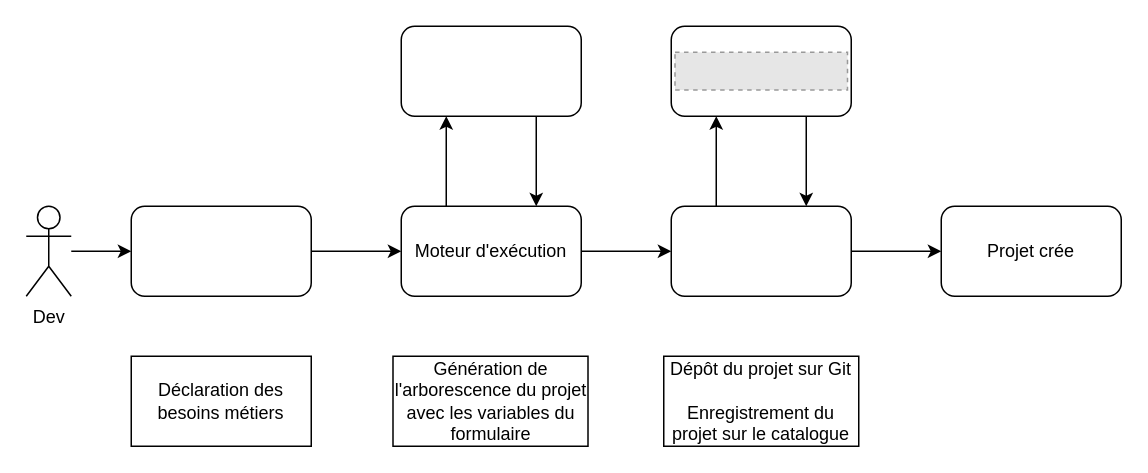
The diagram is 1148 pixels wide and 473 high, and some of its shapes have lost their labels. Grey dashed boxes stand in for pictures. Here are the shapes that lost their labels. From the top down, the box of each, then its label:
(400, 25, 581, 116): Templates (Squelette de code)
(130, 205, 311, 296): Formulaire
(670, 205, 851, 296): Connecteurs
